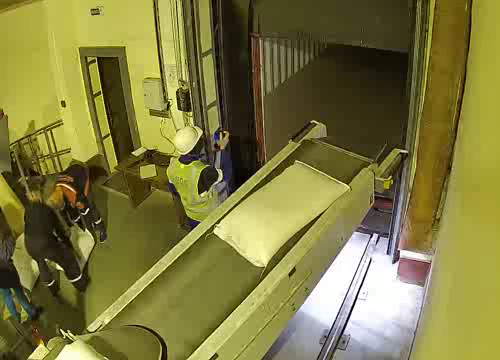bag: (211, 159, 354, 270), (52, 330, 110, 360)
